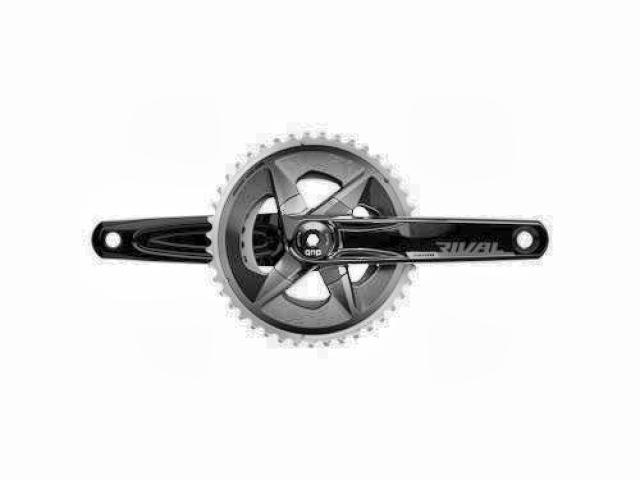cranks_set: (205, 126, 550, 348)
